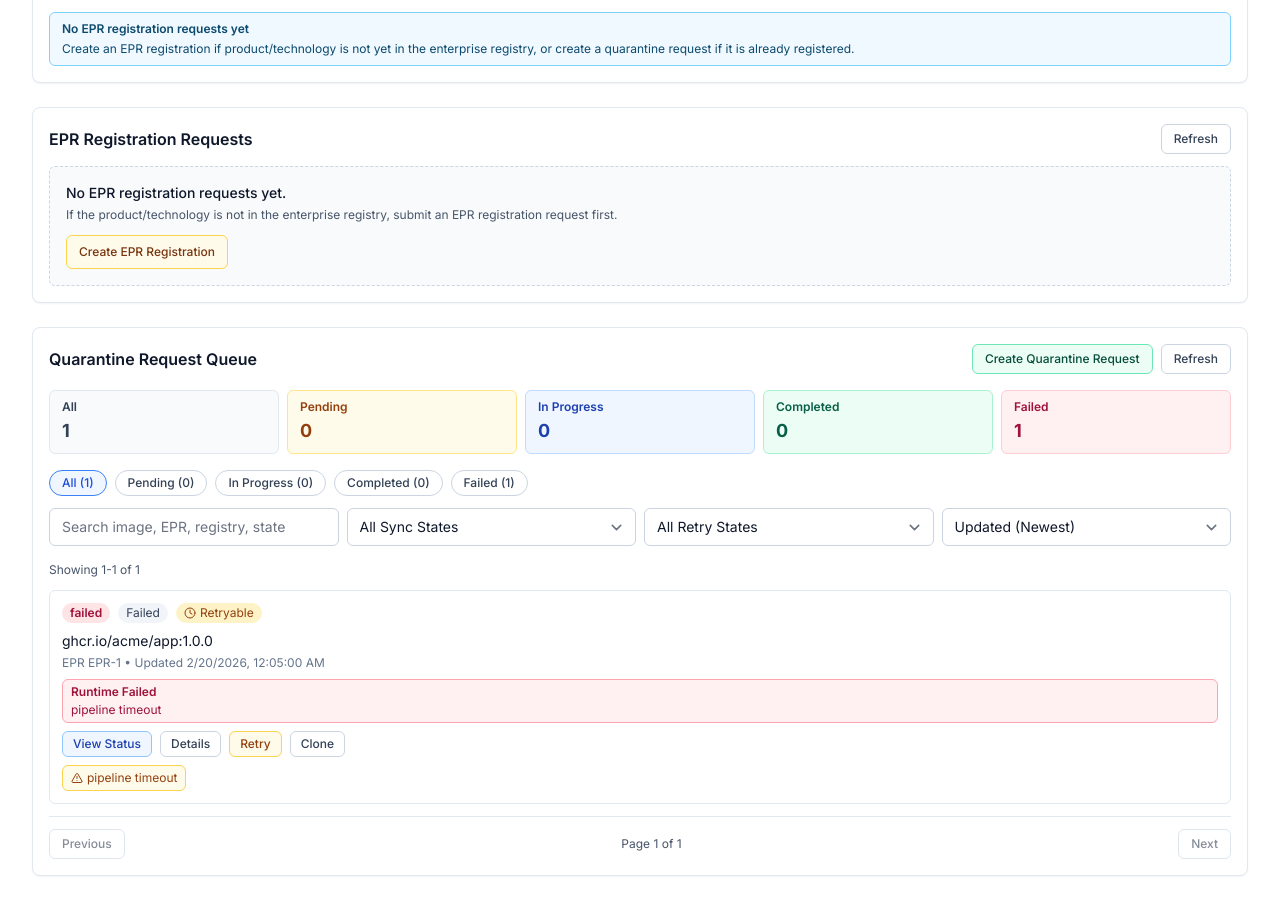
Test case: QuarantineRequestsPage › opens details drawer for a request
(page scrolled)
Expected: the text "ghcr.io/acme/app:1.0.0" is shown, x1=62 y1=632 x2=213 y2=649
Step 1. Click the button "Details" → coordinates (191, 744), box x1=160 y1=731 x2=221 y2=757
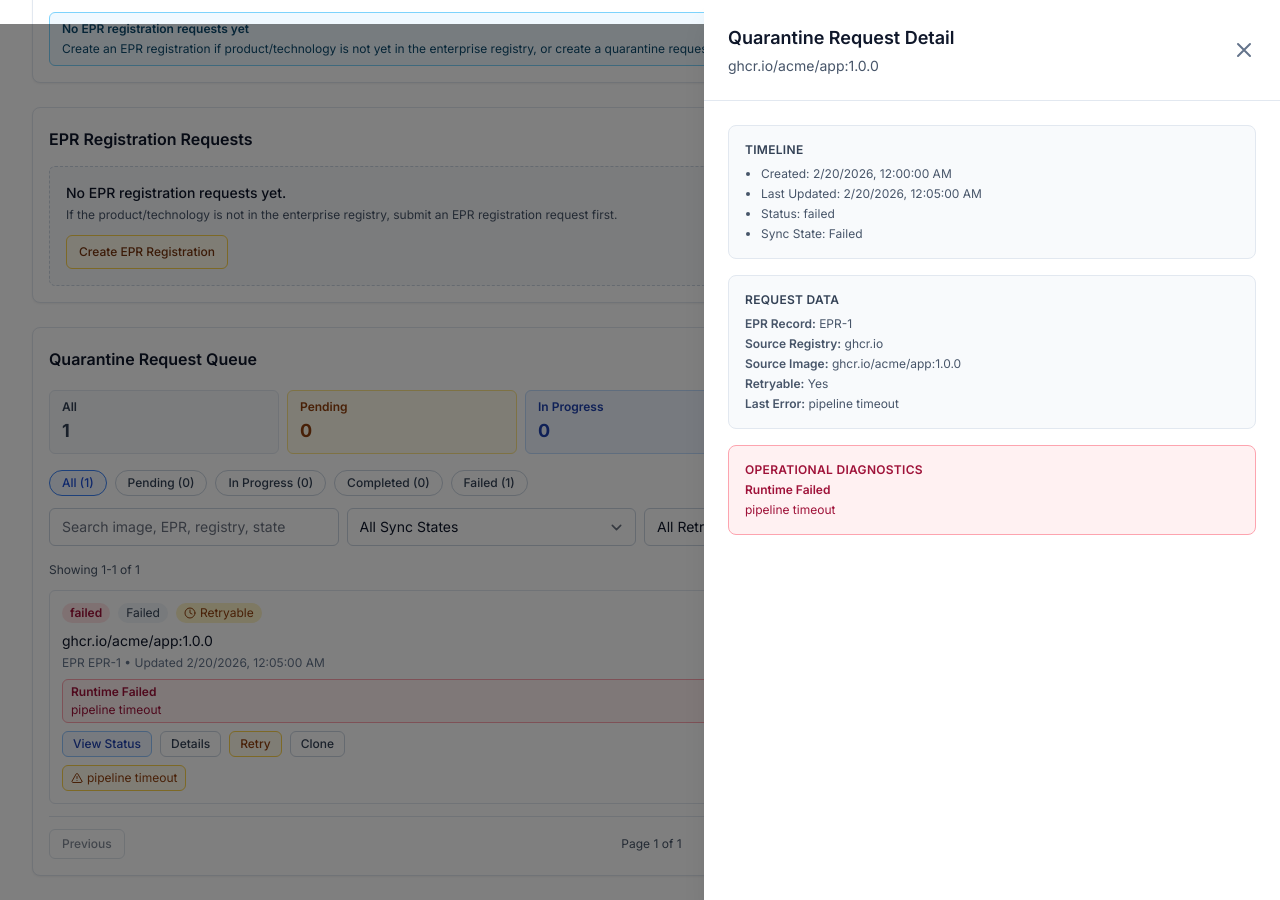
Now the heading "Quarantine Request Detail" is shown, box x1=728 y1=24 x2=954 y2=52
Now the text "Timeline" is shown, box x1=745 y1=142 x2=804 y2=157
Now the text "Request Data" is shown, box x1=745 y1=292 x2=839 y2=307
